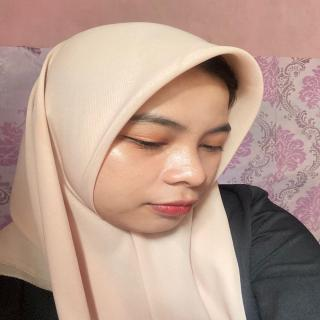Sedih: (96, 59, 239, 239)
